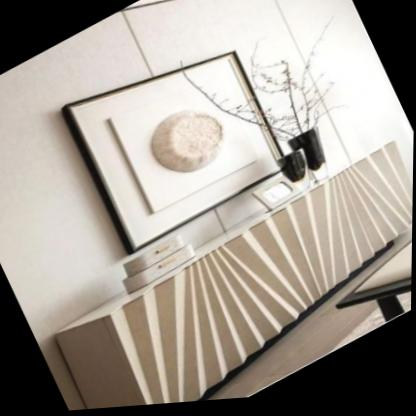Sideboard: (56, 147, 414, 411)
